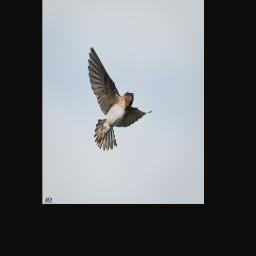Swallow: (87, 45, 153, 154)
